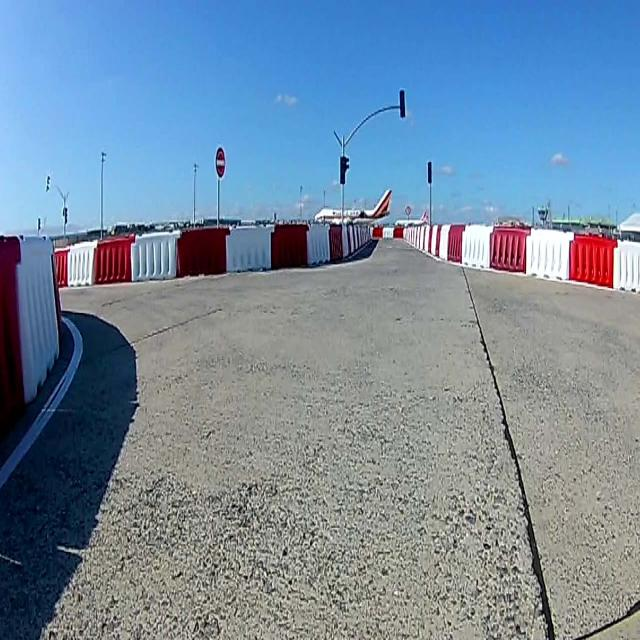girisyok: (215, 144, 225, 180)
